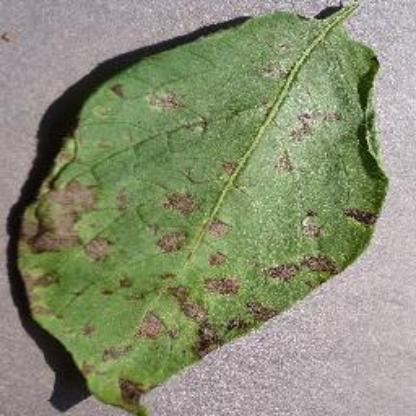Early-Blight: (10, 0, 400, 416)
